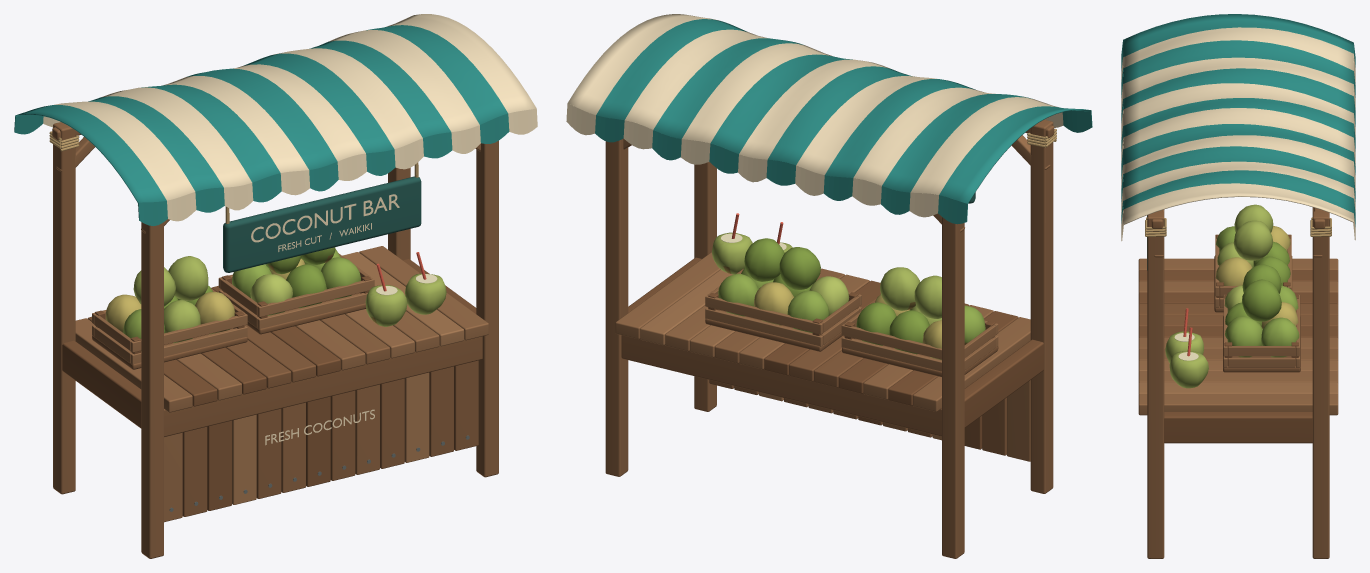
The model's file is coconut-stall.glb.
The picture shows the model from 3 angles, left to right: view 1: azimuth 30°, elevation 25°; view 2: azimuth 150°, elevation 25°; view 3: azimuth 270°, elevation 25°; orthographic projection. The views are drawn at different scales.
Visible parts, largest first — view 1: Striped stitched canopy, Recessed menu panel, Cedar post.001, Cedar post, Counter rail, Cedar post.002, Side apron, Front cedar slat.010, Front cedar slat.001, Front cedar slat.004, Front cedar slat.007, Counter plank.012 (+53 smaller); view 2: Striped stitched canopy, Cedar post, Counter rail.001, Cedar post.001, Cedar post.003, Side apron, Cedar post.002, Counter plank.012, Counter plank, Counter plank.011, Front cedar slat, Fresh coconut.014 (+41 smaller); view 3: Striped stitched canopy, Cedar post.003, Cedar post.002, Side apron.001, Counter plank.012, Counter plank.011, Counter plank.010, Fresh coconut.015, Fresh coconut.007, Counter plank.002, Counter plank.001, Counter plank (+24 smaller).
Part boxes in pixels (bbox=[...]): Striped stitched canopy: bbox=[15, 14, 536, 202]; Recessed menu panel: bbox=[223, 176, 421, 272]; Cedar post.001: bbox=[53, 122, 75, 494]; Cedar post: bbox=[141, 222, 163, 558]; Counter rail: bbox=[164, 336, 482, 436]; Cedar post.002: bbox=[476, 140, 498, 477]; Side apron: bbox=[62, 340, 141, 428]; Front cedar slat.010: bbox=[404, 372, 429, 462]; Front cedar slat.001: bbox=[182, 427, 207, 516]; Front cedar slat.004: bbox=[256, 408, 281, 498]; Front cedar slat.007: bbox=[330, 390, 355, 480]; Counter plank.012: bbox=[359, 246, 488, 340]; Striped stitched canopy: bbox=[568, 14, 1091, 203]; Cedar post: bbox=[1030, 119, 1053, 493]; Counter rail.001: bbox=[621, 335, 941, 436]; Cedar post.001: bbox=[942, 217, 964, 558]; Cedar post.003: bbox=[605, 139, 628, 476]; Side apron: bbox=[964, 339, 1043, 427]; Cedar post.002: bbox=[694, 162, 716, 411]; Counter plank.012: bbox=[615, 252, 720, 339]; Counter plank: bbox=[913, 317, 1030, 411]; Counter plank.011: bbox=[640, 269, 732, 345]; Front cedar slat: bbox=[1007, 380, 1030, 461]; Fresh coconut.014: bbox=[779, 247, 820, 289]; Striped stitched canopy: bbox=[1123, 14, 1353, 224]; Cedar post.003: bbox=[1312, 211, 1329, 558]; Cedar post.002: bbox=[1147, 211, 1164, 558]; Side apron.001: bbox=[1164, 412, 1312, 443]; Counter plank.012: bbox=[1138, 394, 1338, 415]; Counter plank.011: bbox=[1138, 382, 1338, 394]; Counter plank.010: bbox=[1138, 371, 1338, 383]; Fresh coconut.015: bbox=[1242, 279, 1281, 321]; Fresh coconut.007: bbox=[1233, 220, 1273, 260]; Counter plank.002: bbox=[1138, 281, 1338, 293]; Counter plank.001: bbox=[1138, 270, 1338, 281]; Counter plank: bbox=[1138, 258, 1338, 270].
Size of the model in its own units: 2.76 by 2.66 by 1.5.
